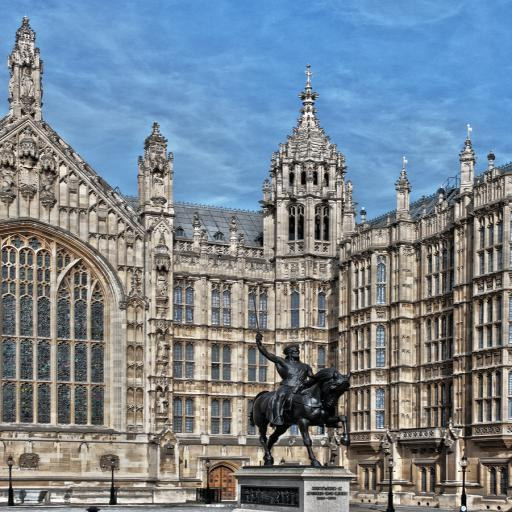horse: (248, 364, 356, 468)
